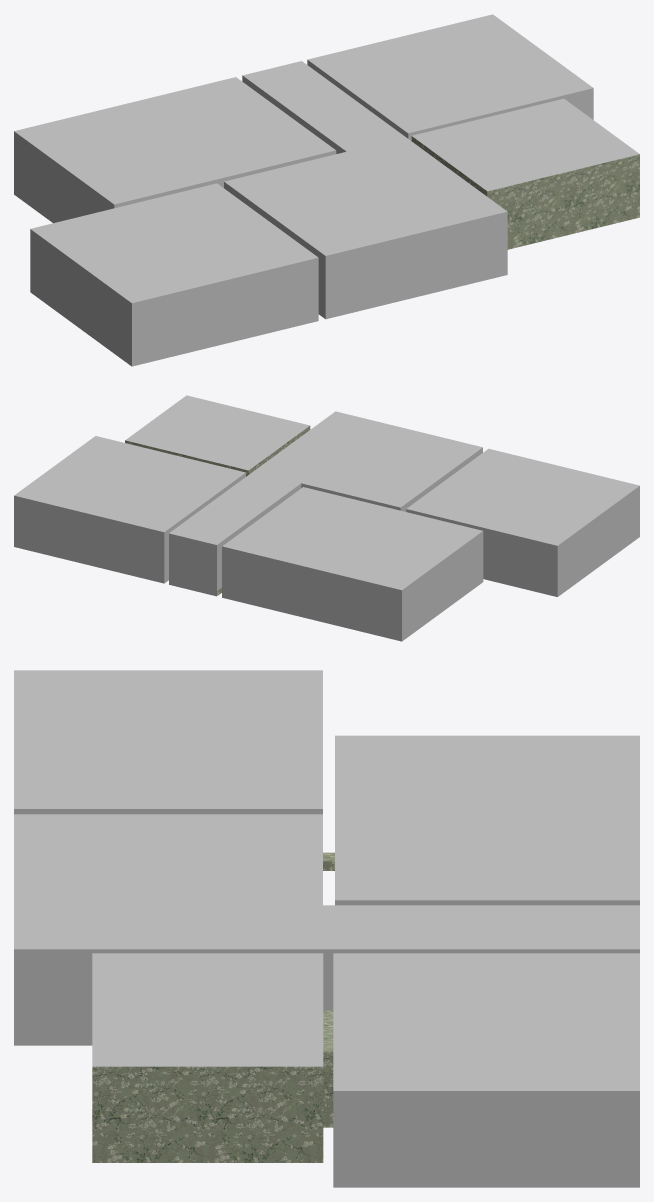
The model's file is House2.fbx.
The picture shows the model from 3 angles, top to bottom: view 1: azimuth 30°, elevation 25°; view 2: azimuth 150°, elevation 25°; view 3: azimuth 270°, elevation 25°; orthographic projection. The views are drawn at different scales.
Parts seen in each view (by area): view 1: Cube.001; view 2: Cube.001; view 3: Cube.001.
Part boxes in pixels (x1,y1,x2,y2): Cube.001: (14, 14, 639, 366); Cube.001: (14, 395, 639, 641); Cube.001: (14, 670, 639, 1187).
Bounding box in the file's own units: 9340 × 998 × 5873.
